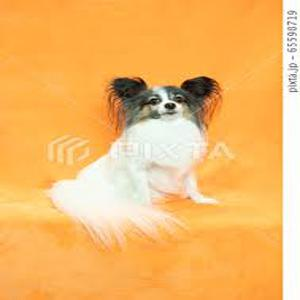yell: (49, 76, 221, 242)
